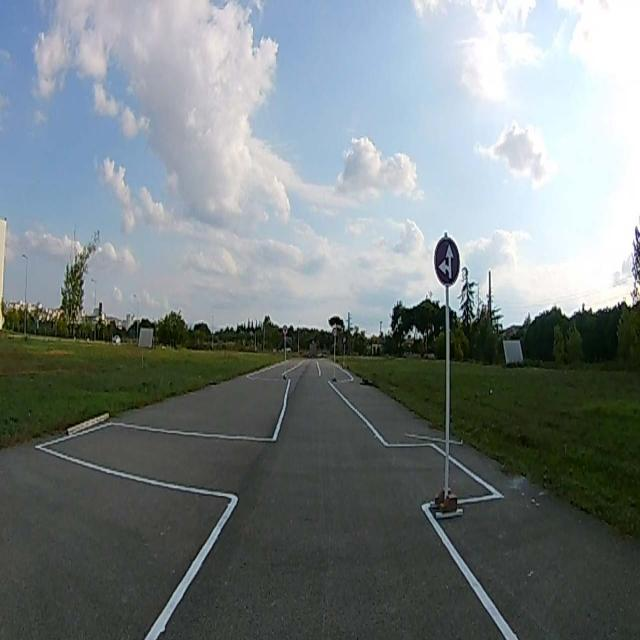ilerisol: (436, 240, 459, 283)
